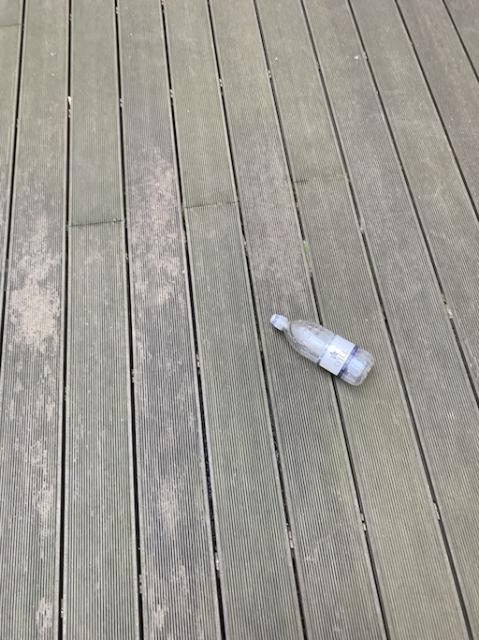plastic: (270, 313, 373, 383)
